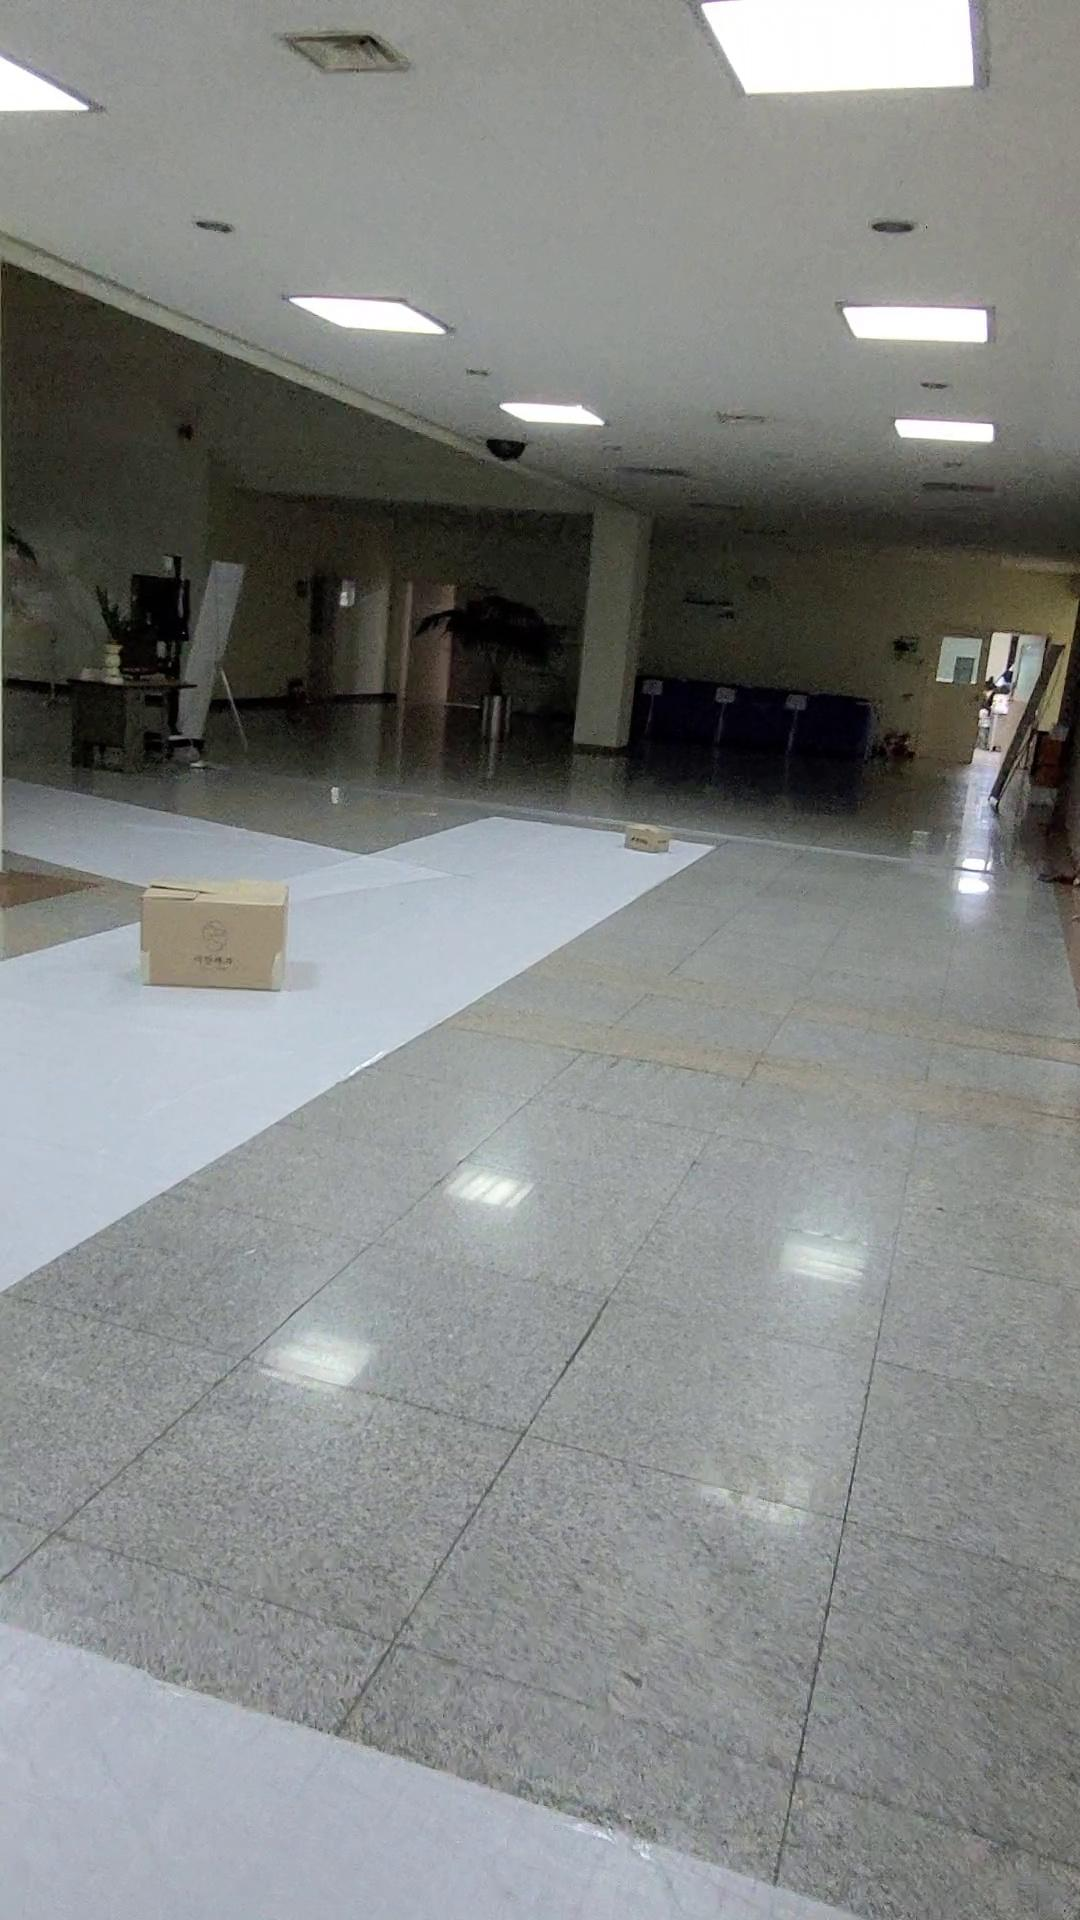Box: (96, 860, 319, 1011), (607, 810, 702, 885)
